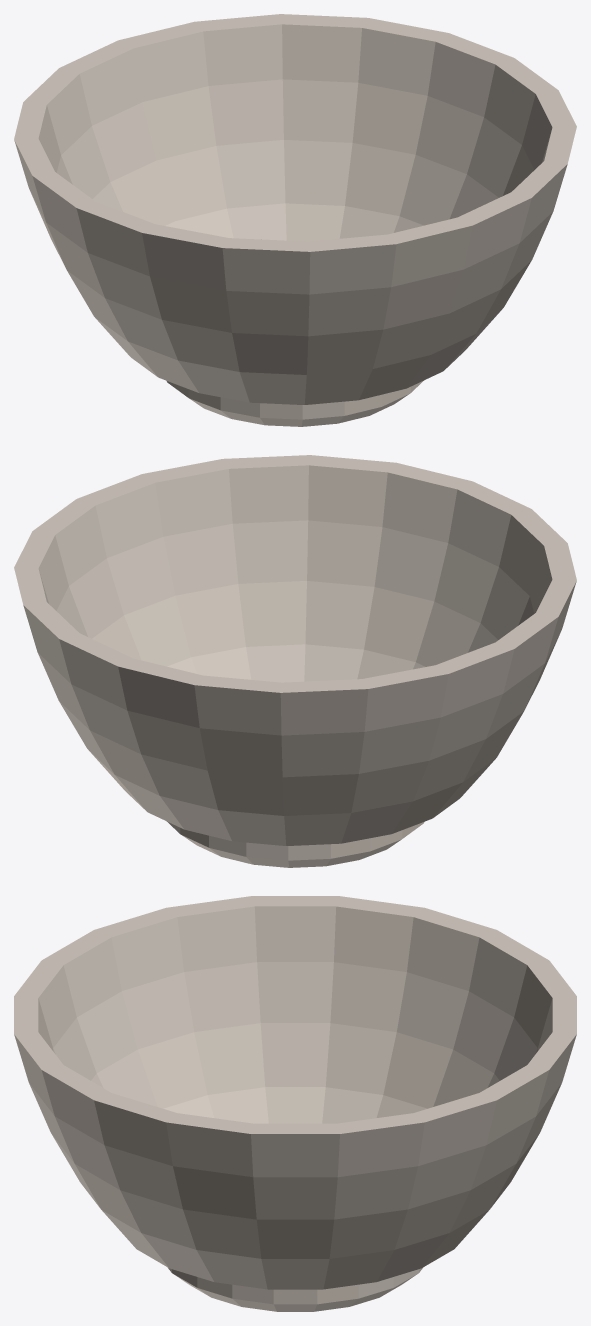
File: SM_Cook_SideBowl_01.obj
The picture shows the model from 3 angles, top to bottom: view 1: azimuth 30°, elevation 25°; view 2: azimuth 150°, elevation 25°; view 3: azimuth 270°, elevation 25°; orthographic projection.
Visible parts, largest first — view 1: SM_Cook_SideBowl_01; view 2: SM_Cook_SideBowl_01; view 3: SM_Cook_SideBowl_01.
Part boxes in pixels (x1,y1,x2,y2): SM_Cook_SideBowl_01: [14, 14, 576, 426]; SM_Cook_SideBowl_01: [14, 455, 576, 867]; SM_Cook_SideBowl_01: [14, 896, 576, 1311].
Bounding box in the file's own units: 0.1136 × 0.055 × 0.1136.
1 material, 1 textured.
